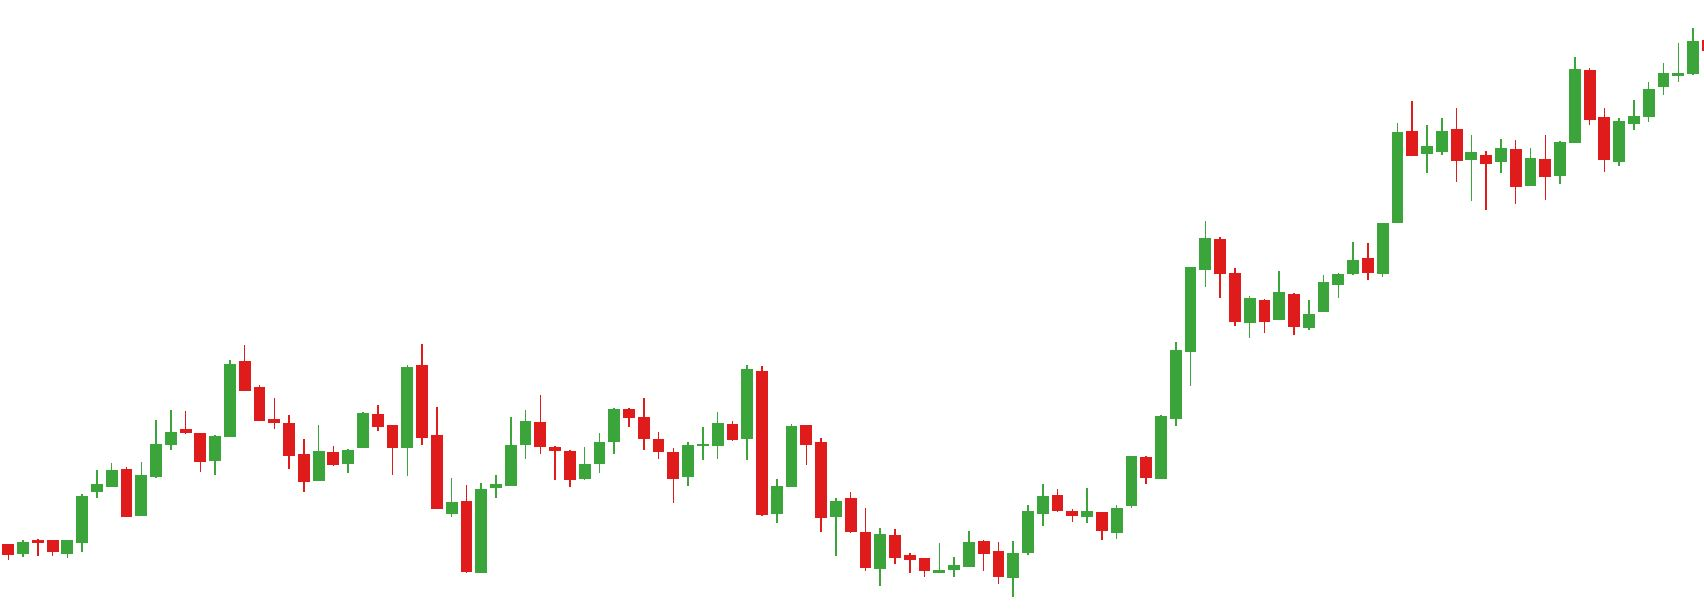buy: (191, 402, 327, 500)
sell: (638, 352, 772, 468)
